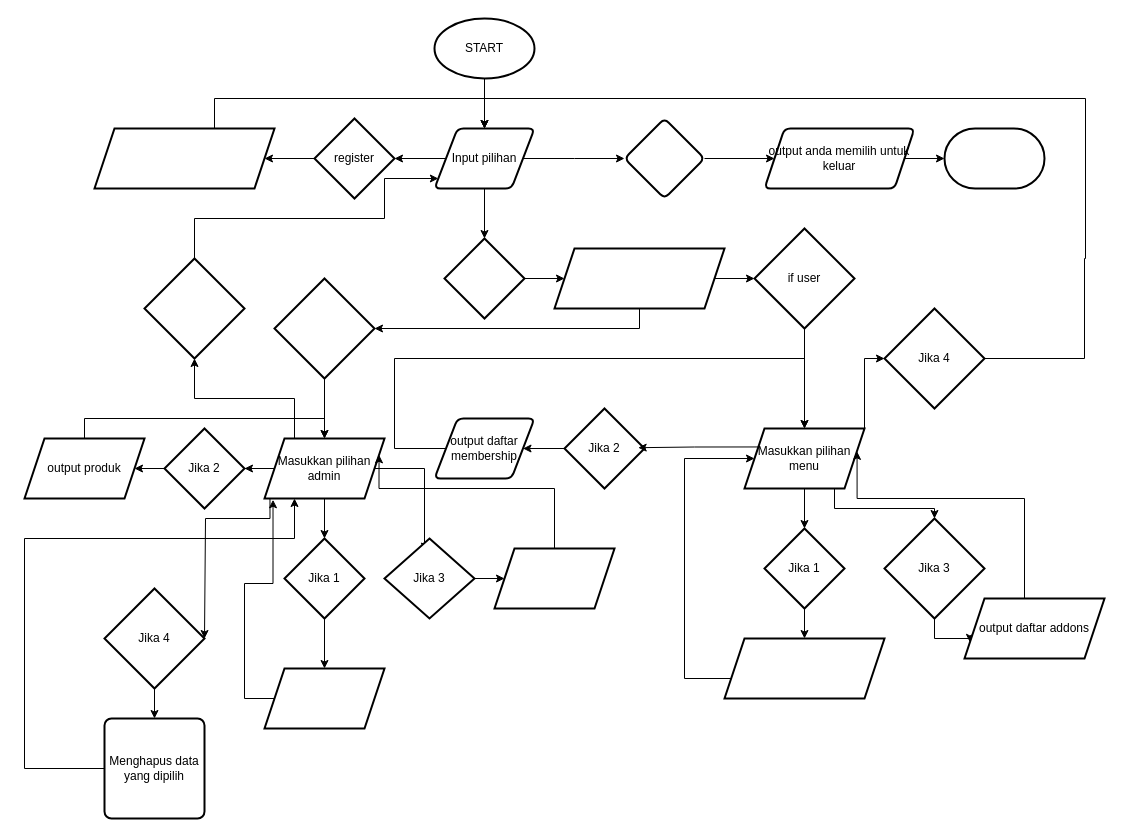
Some shapes in this 1123 by 836 pixel diagram are drawn without their labels. Here are the shapes that lost their labels. From the top down, the centre of each, then its label:
At point 184,158: "masukkan password dan username untuk akun baru".
At point 664,158: "logout".
At point 994,158: "END".
At point 484,278: "login".
At point 639,278: "masukkan password dan username".
At point 194,308: "Jika 5".
At point 324,328: "if admin".
At point 554,578: "Edit menu".
At point 804,668: "output munculkan daftar produk".
At point 324,698: "Tambah menu".
